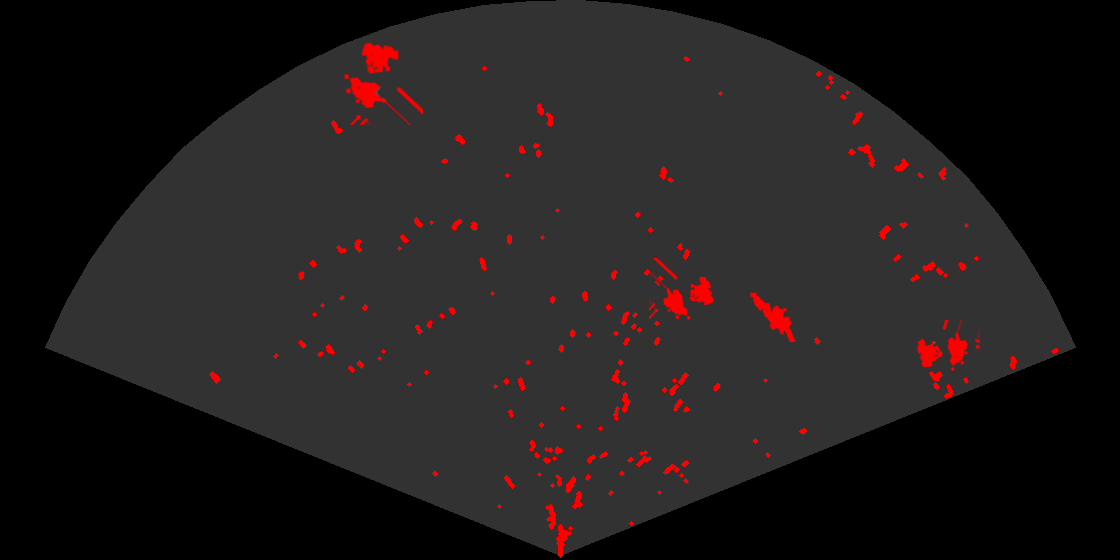cage: (342, 41, 423, 125), (649, 258, 716, 322), (916, 320, 980, 373)
frogman: (748, 290, 797, 342)
